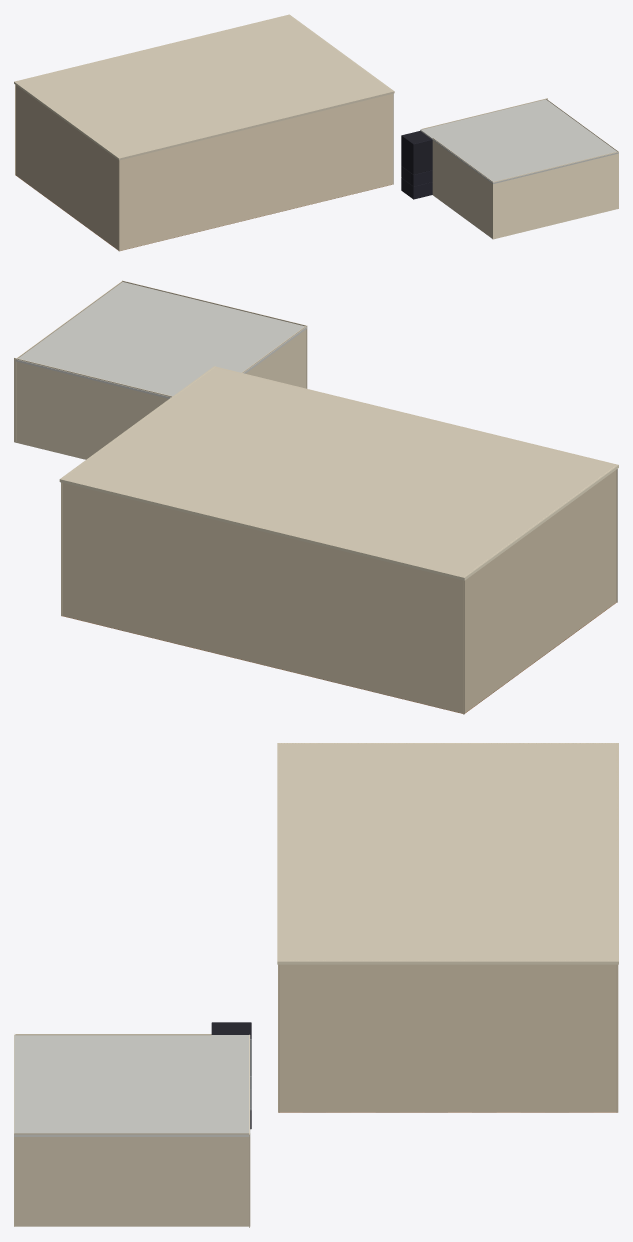
Rendered from TurkeyRace_LowPolyRooms.glb.
The picture shows the model from 3 angles, top to bottom: view 1: azimuth 30°, elevation 25°; view 2: azimuth 150°, elevation 25°; view 3: azimuth 270°, elevation 25°; orthographic projection. The views are drawn at different scales.
Parts seen in each view (by area): view 1: Dining_Shell, Kitchen_Walls, Kitchen_Oven; view 2: Dining_Shell, Kitchen_Walls; view 3: Dining_Shell, Kitchen_Walls, Kitchen_Oven.
Boxes of the visible parts, x1=… form: Dining_Shell: x1=14, y1=14, x2=394, y2=251; Kitchen_Walls: x1=420, y1=98, x2=618, y2=239; Kitchen_Oven: x1=401, y1=131, x2=432, y2=199; Dining_Shell: x1=59, y1=366, x2=618, y2=714; Kitchen_Walls: x1=14, y1=280, x2=307, y2=459; Dining_Shell: x1=277, y1=743, x2=618, y2=1112; Kitchen_Walls: x1=14, y1=1034, x2=250, y2=1227; Kitchen_Oven: x1=211, y1=1022, x2=251, y2=1129.
Bounding box in the file's own units: 1348 × 286 × 1034.
1 material, 1 textured.
